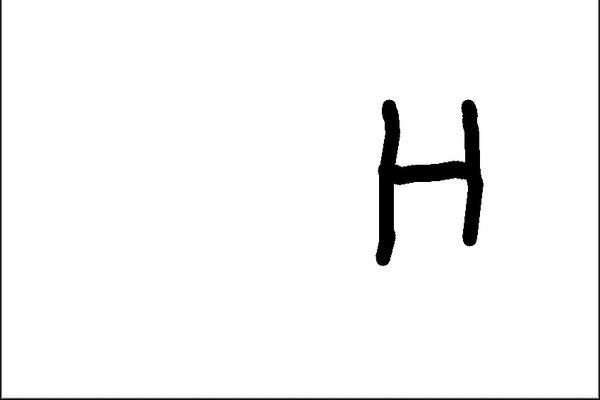H: (368, 91, 487, 269)
